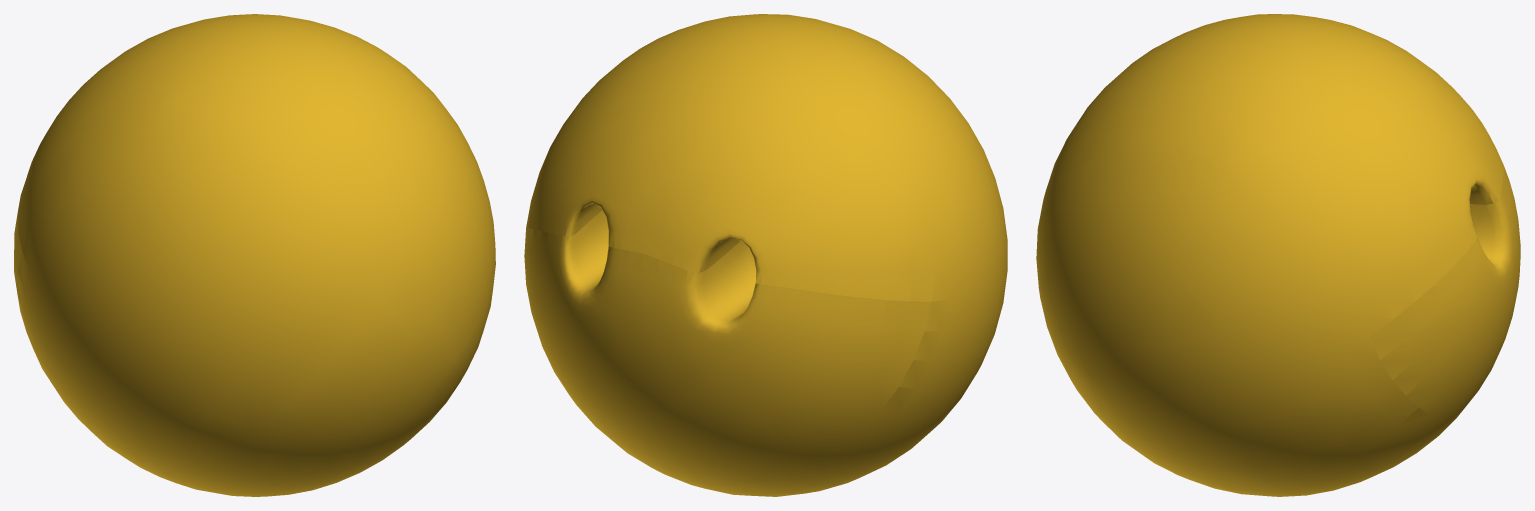
File: nomounth 3DS.glb
The picture shows the model from 3 angles, left to right: view 1: azimuth 30°, elevation 25°; view 2: azimuth 150°, elevation 25°; view 3: azimuth 270°, elevation 25°; orthographic projection.
Visible parts, largest first — view 1: Group21311; view 2: Group21311; view 3: Group21311.
Boxes of the visible parts, <box> form: Group21311: <box>14,14,495,496</box>; Group21311: <box>524,14,1007,496</box>; Group21311: <box>1036,14,1520,496</box>.
Bounding box in the file's own units: 0.5298 × 0.5313 × 0.5327.
